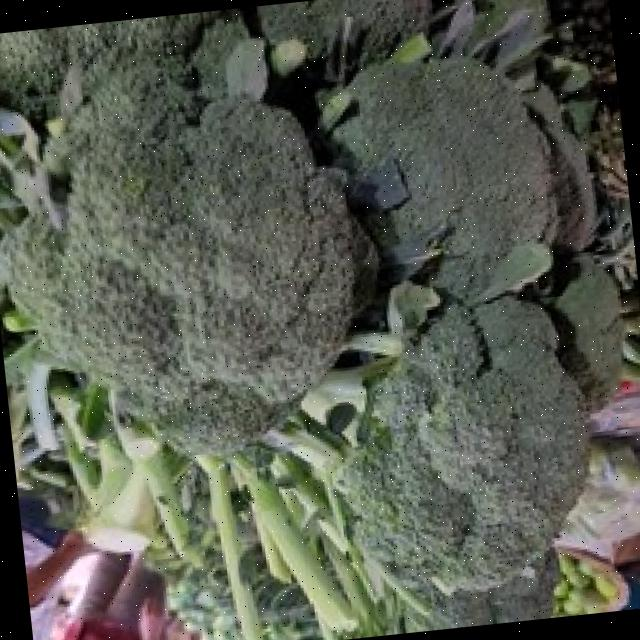Broccoli: (7, 19, 376, 453), (8, 44, 376, 452), (341, 295, 585, 591), (341, 295, 585, 591), (319, 56, 593, 304), (329, 57, 594, 304), (547, 253, 622, 411), (547, 254, 622, 411)
